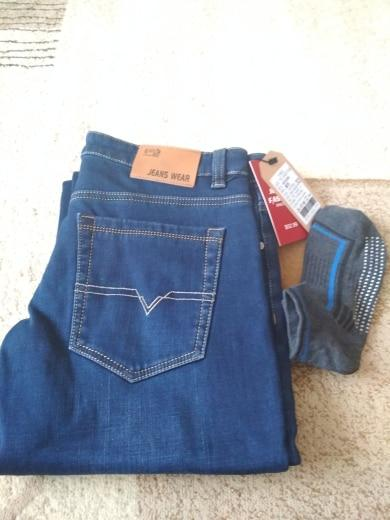jeans: (9, 128, 301, 464)
